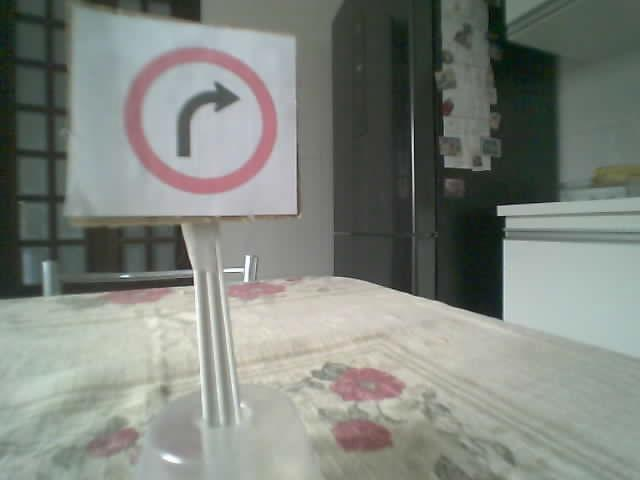R-25b_direita: (122, 44, 277, 195)
